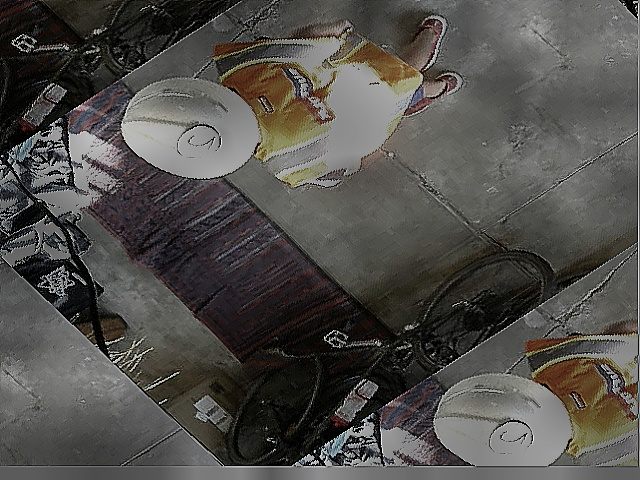two: (167, 119, 229, 167)
